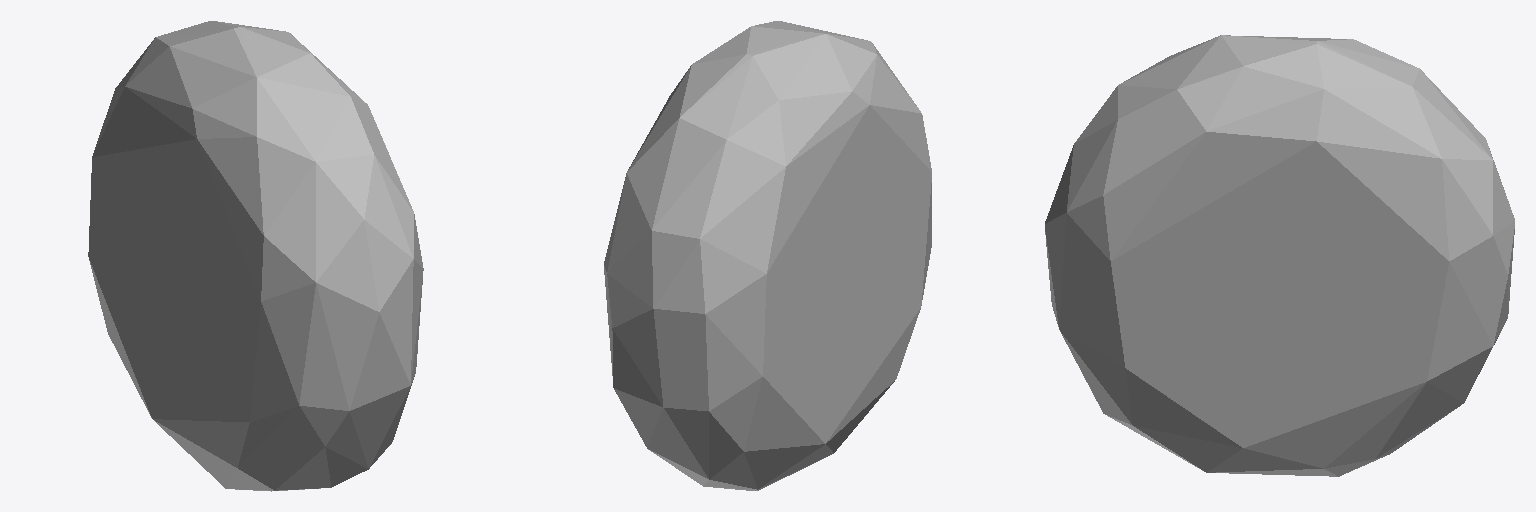
URDF robot description (root):
<robot name="root">
  <link name="link_745a7f01e0c968d142a2f1301def0553_convex_piece_0">
    <inertial>
      <origin rpy="0 0 0" xyz="0 0 0"/>
      <mass value="1.97E-05"/>
      <inertia ixx="4.49E-09" ixy="2.20E-12" ixz="-3.03E-12" iyy="2.69E-09" iyz="-8.54E-12" izz="2.69E-09"/>
    </inertial>
    <visual>
      <origin rpy="0 0 0" xyz="0 0 0"/>
      <geometry>
        <mesh filename="745a7f01e0c968d142a2f1301def0553_convex_piece_0.obj" scale="1.0000E+00"/>
      </geometry>
      <material name="">
        <color rgba="7.50E-01 7.50E-01 7.50E-01 1"/>
      </material>
    </visual>
    <collision>
      <origin rpy="0 0 0" xyz="0 0 0"/>
      <geometry>
        <mesh filename="745a7f01e0c968d142a2f1301def0553_convex_piece_0.obj" scale="1.0000E+00"/>
      </geometry>
    </collision>
  </link>
</robot>

--- Facts derived from the render (not from the file) ---
Views: 3 orthographic renders of the robot side by side, from view 1: azimuth 30°, elevation 25°; view 2: azimuth 150°, elevation 25°; view 3: azimuth 270°, elevation 25°.
Model root with 1 links and 0 joints (none), rooted at link_745a7f01e0c968d142a2f1301def0553_convex_piece_0, posed every joint at zero.
Links seen in each view (by area): view 1: link_745a7f01e0c968d142a2f1301def0553_convex_piece_0; view 2: link_745a7f01e0c968d142a2f1301def0553_convex_piece_0; view 3: link_745a7f01e0c968d142a2f1301def0553_convex_piece_0.
Boxes of the visible links, left/top/right/bottom form: link_745a7f01e0c968d142a2f1301def0553_convex_piece_0: left=88, top=21, right=423, bottom=491; link_745a7f01e0c968d142a2f1301def0553_convex_piece_0: left=604, top=21, right=931, bottom=490; link_745a7f01e0c968d142a2f1301def0553_convex_piece_0: left=1045, top=35, right=1514, bottom=476.
Bounding box of the posed robot: 0.0179 × 0.0457 × 0.0457 m (x, y, z).
Meshes: 1 distinct files referenced, 1 mesh visuals loaded (1 OBJ).